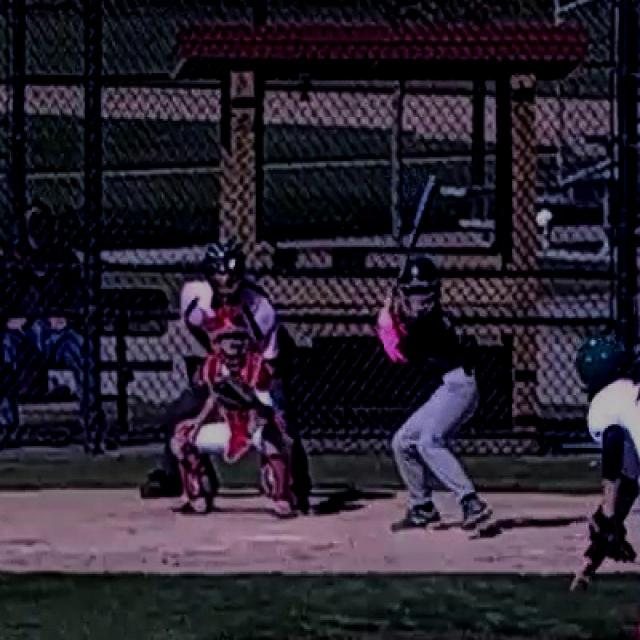baseball: (537, 210, 552, 226)
